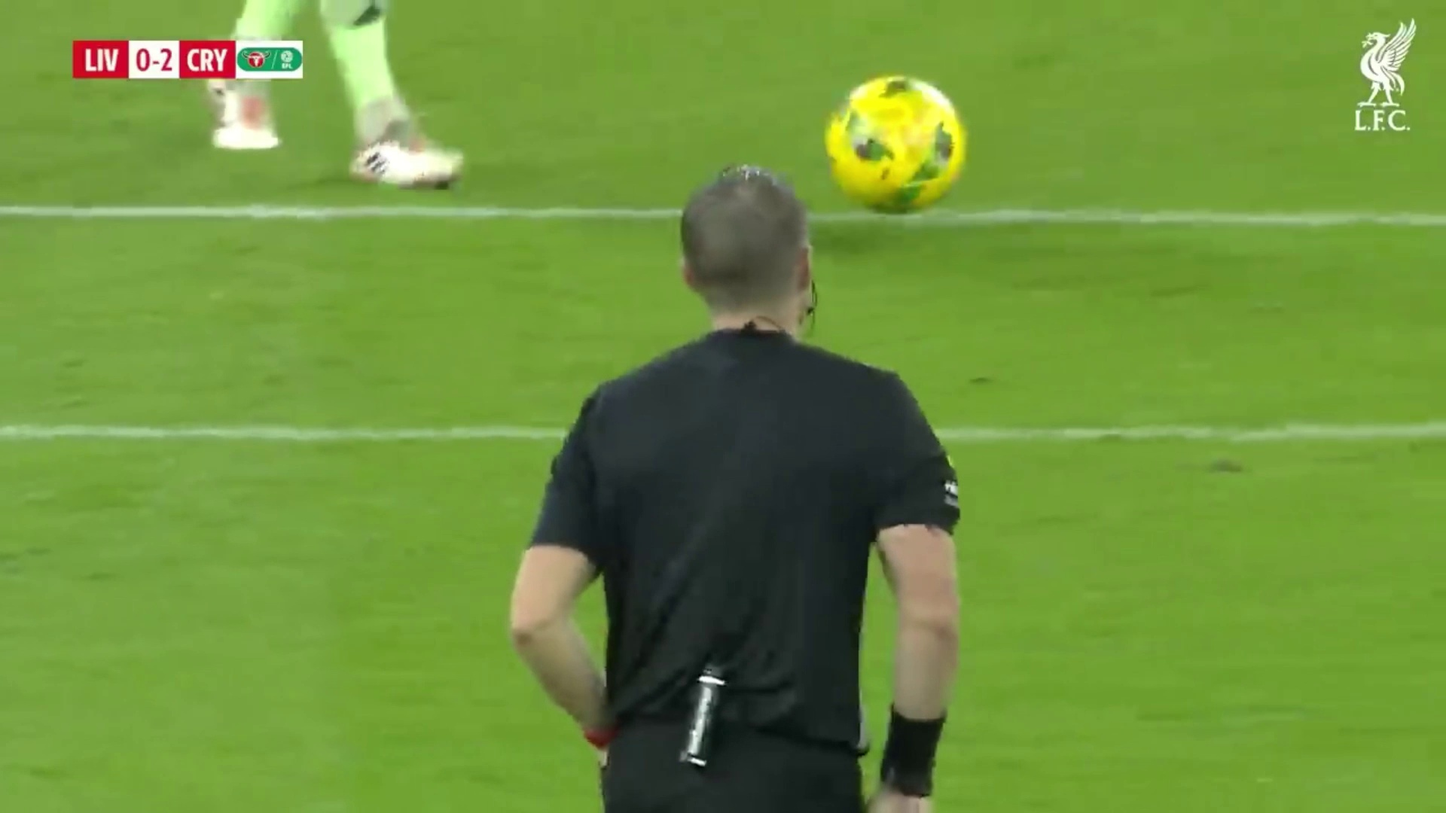player: (508, 161, 965, 805), (210, 3, 467, 190), (1355, 20, 1417, 135)
